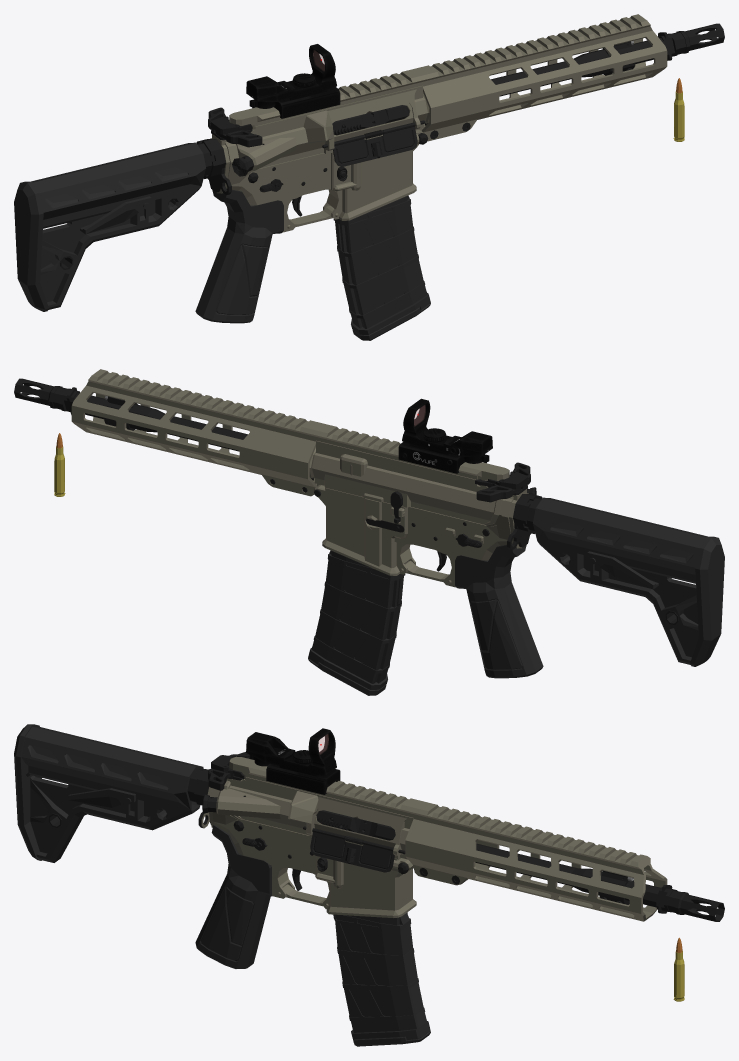
File: m416rifle.glb
3 views of the same model, one above another, from view 1: azimuth 30°, elevation 25°; view 2: azimuth 150°, elevation 25°; view 3: azimuth 330°, elevation 25° (orthographic).
Parts seen in each view (by area): view 1: uar15 stock, uar15 handguard, uar15 lower, Magazine, uar15 upper, uar15 grip, scope_low_TT_checker_4096x4096_UV_GRID_0, uar15 dust cover, uar15 10.5in barrel, uar15 flash hider, charginghandle, uar15 bolt; view 2: uar15 stock, uar15 handguard, uar15 lower, uar15 upper, Magazine, uar15 grip, scope_low_TT_checker_4096x4096_UV_GRID_0, uar15 10.5in barrel, uar15 flash hider, charginghandle; view 3: uar15 stock, uar15 handguard, Magazine, uar15 lower, uar15 upper, uar15 grip, scope_low_TT_checker_4096x4096_UV_GRID_0, uar15 dust cover, uar15 10.5in barrel, uar15 flash hider, uar15 bolt, charginghandle (+1 smaller).
Boxes of the visible parts, x1=… form: uar15 stock: x1=14, y1=142, x2=205, y2=311; uar15 handguard: x1=414, y1=14, x2=667, y2=141; uar15 lower: x1=196, y1=130, x2=428, y2=232; Magazine: x1=333, y1=195, x2=430, y2=340; uar15 upper: x1=229, y1=69, x2=429, y2=176; uar15 grip: x1=195, y1=188, x2=283, y2=323; scope_low_TT_checker_4096x4096_UV_GRID_0: x1=246, y1=44, x2=340, y2=118; uar15 dust cover: x1=322, y1=120, x2=425, y2=166; uar15 10.5in barrel: x1=491, y1=38, x2=665, y2=96; uar15 flash hider: x1=658, y1=23, x2=724, y2=60; charginghandle: x1=208, y1=107, x2=262, y2=147; uar15 bolt: x1=332, y1=105, x2=409, y2=135; uar15 stock: x1=533, y1=497, x2=724, y2=666; uar15 handguard: x1=71, y1=369, x2=324, y2=496; uar15 lower: x1=313, y1=485, x2=542, y2=587; uar15 upper: x1=309, y1=424, x2=536, y2=525; Magazine: x1=308, y1=550, x2=405, y2=695; uar15 grip: x1=455, y1=543, x2=543, y2=678; scope_low_TT_checker_4096x4096_UV_GRID_0: x1=398, y1=398, x2=492, y2=473; uar15 10.5in barrel: x1=73, y1=393, x2=247, y2=451; uar15 flash hider: x1=14, y1=378, x2=79, y2=414; charginghandle: x1=475, y1=462, x2=530, y2=502; uar15 stock: x1=14, y1=724, x2=203, y2=862; uar15 handguard: x1=405, y1=801, x2=667, y2=921; Magazine: x1=333, y1=912, x2=430, y2=1046; uar15 lower: x1=187, y1=769, x2=416, y2=917; uar15 upper: x1=202, y1=756, x2=422, y2=868; uar15 grip: x1=195, y1=824, x2=271, y2=968; scope_low_TT_checker_4096x4096_UV_GRID_0: x1=246, y1=728, x2=340, y2=794; uar15 dust cover: x1=303, y1=826, x2=405, y2=872; uar15 10.5in barrel: x1=475, y1=843, x2=660, y2=907; uar15 flash hider: x1=656, y1=885, x2=724, y2=921; uar15 bolt: x1=316, y1=810, x2=395, y2=840; charginghandle: x1=208, y1=752, x2=249, y2=790.
Bounding box in the file's own units: 6.79 × 2.78 × 0.7263.
9 materials, 1 textured.
